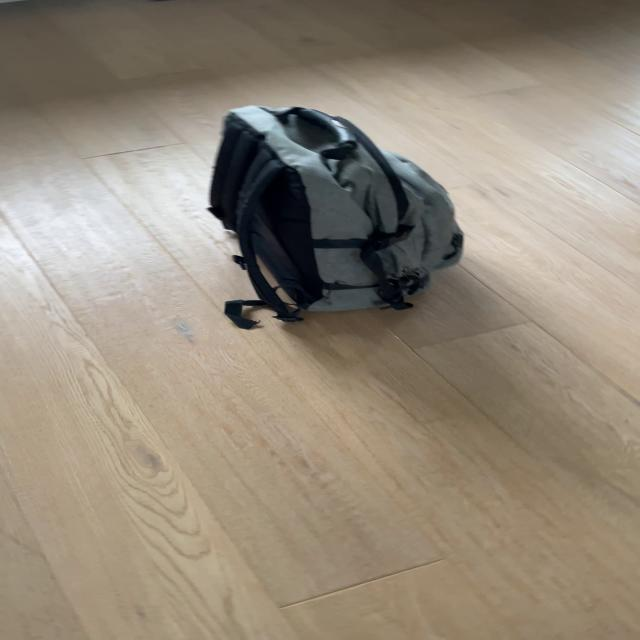backpack: (195, 97, 477, 321)
